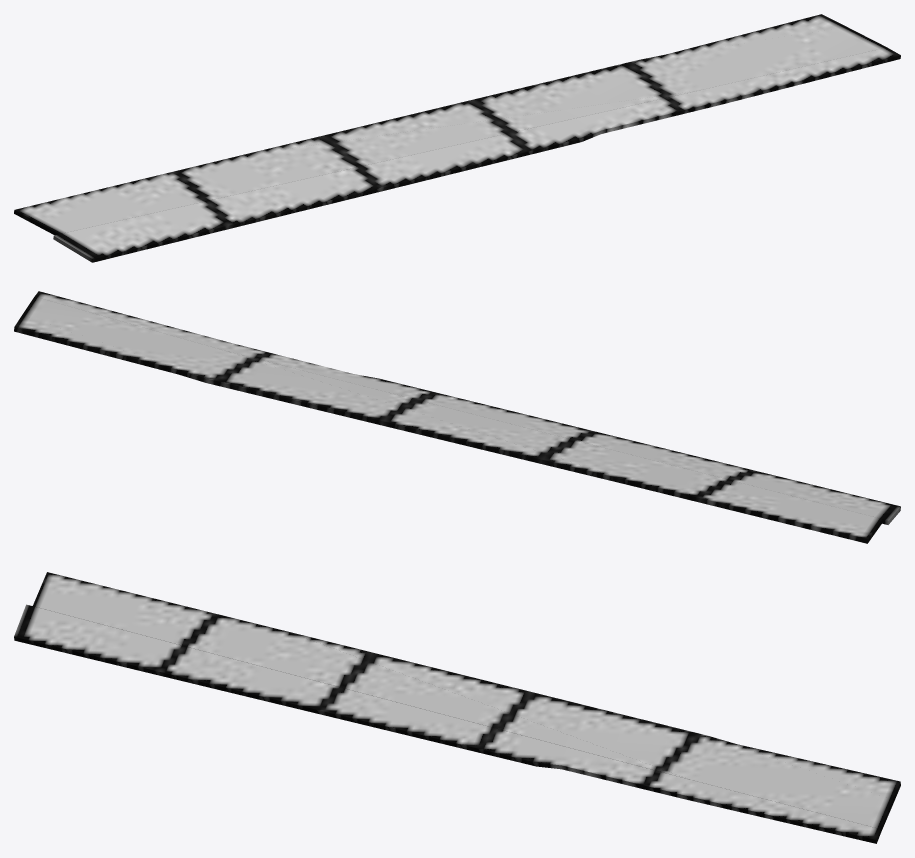
File: rightOuterSpoiler.dae
The picture shows the model from 3 angles, top to bottom: view 1: azimuth 30°, elevation 25°; view 2: azimuth 150°, elevation 25°; view 3: azimuth 330°, elevation 25°; orthographic projection. The views are drawn at different scales.
Visible parts, largest first — view 1: SketchUp; view 2: SketchUp; view 3: SketchUp.
Part boxes in pixels (x1,y1,x2,y2): SketchUp: (14,14,900,262); SketchUp: (14,291,900,543); SketchUp: (14,572,900,843).
Bounding box in the file's own units: 254 × 29.09 × 5.89.
Materials: 2 (1 with a texture image).
